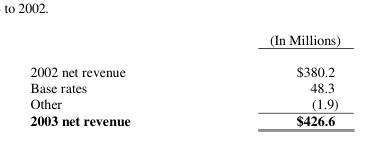table: (29, 29, 339, 112)
table column: (29, 29, 196, 112), (196, 29, 339, 112)
table column header: (29, 29, 339, 54)
table row: (29, 29, 339, 54), (29, 54, 339, 79), (29, 94, 339, 112), (29, 79, 339, 94)
